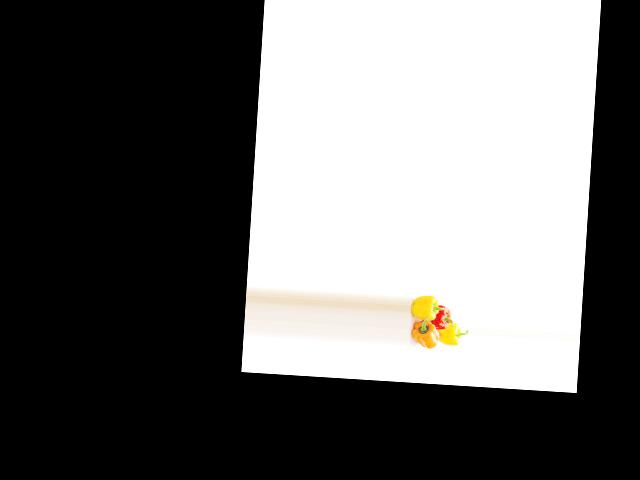bell_pepper: (410, 293, 444, 328)
